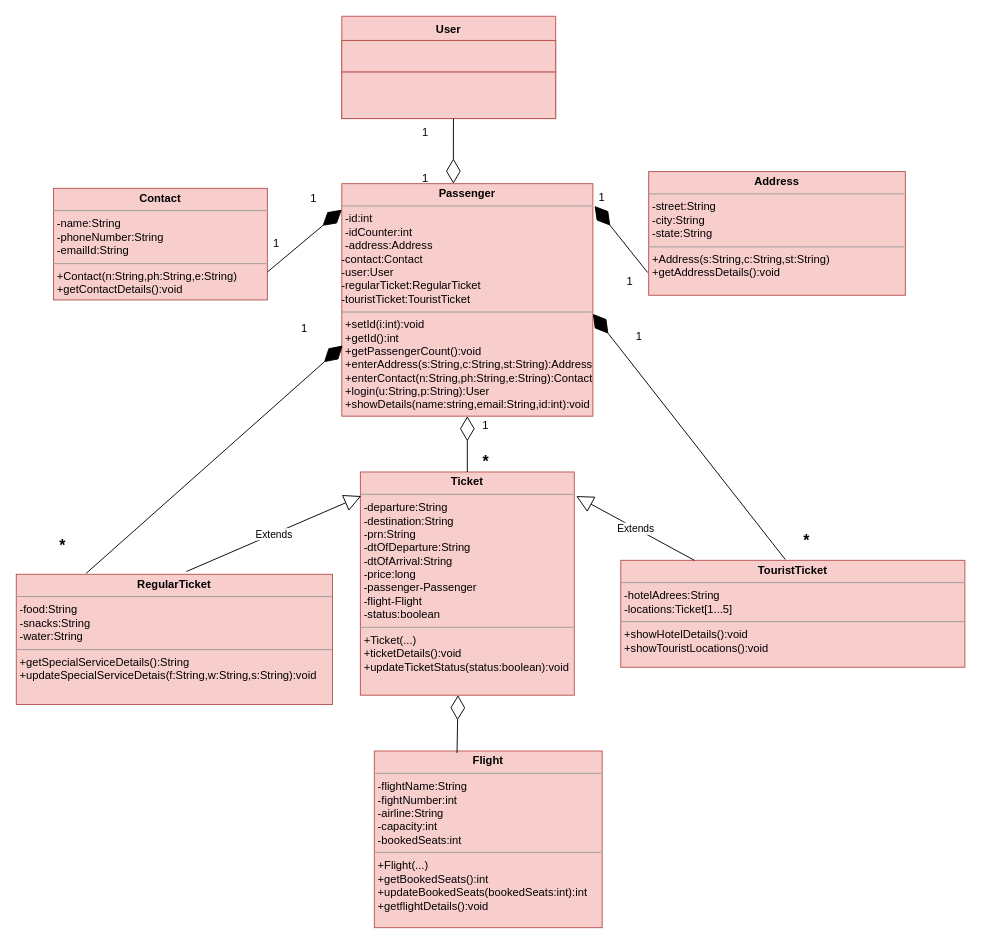
This 981x944 diagram has some shape labels left out. Each missing label, with the centre of its shape:
"+User(u:String,p:String)" goes at (448,95).
"-username:String -password:String" goes at (448,56).
